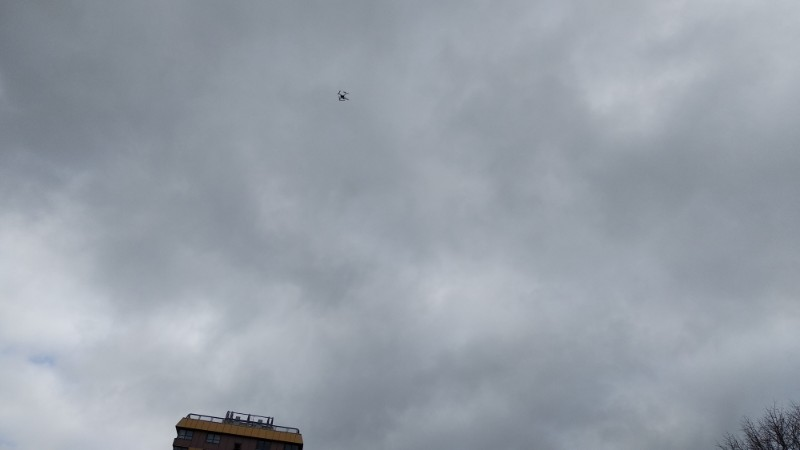drone: (337, 90, 349, 101)
